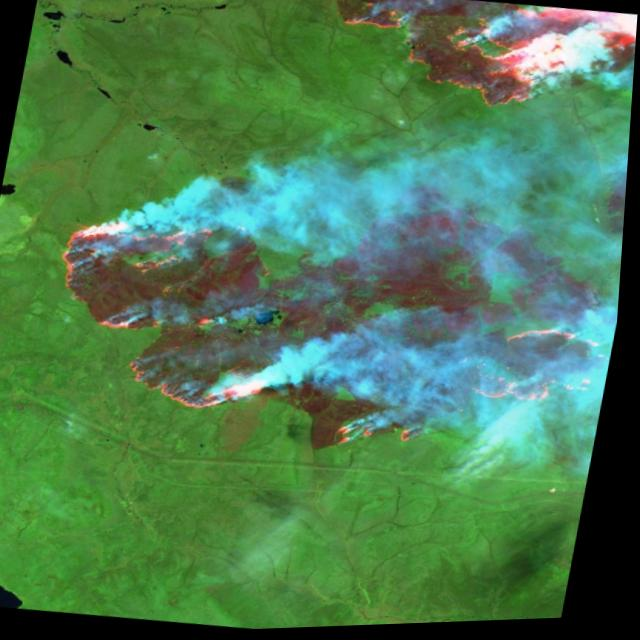fire: (20, 190, 629, 500), (306, 0, 640, 138)
